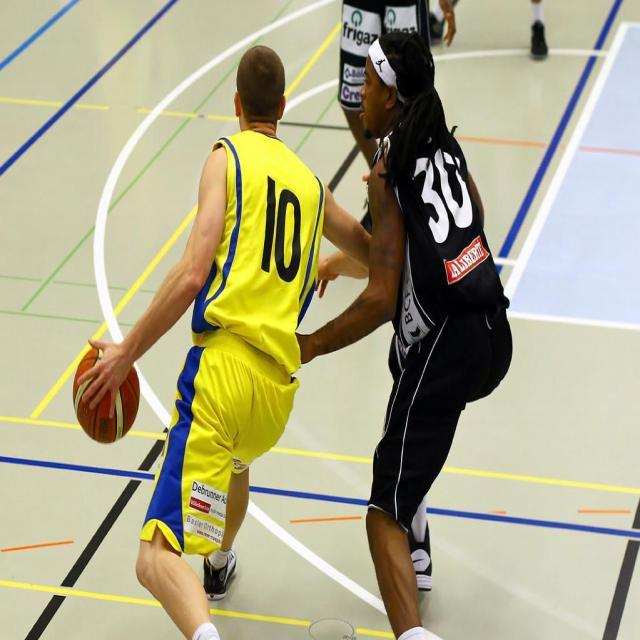rim: (74, 347, 140, 443)
